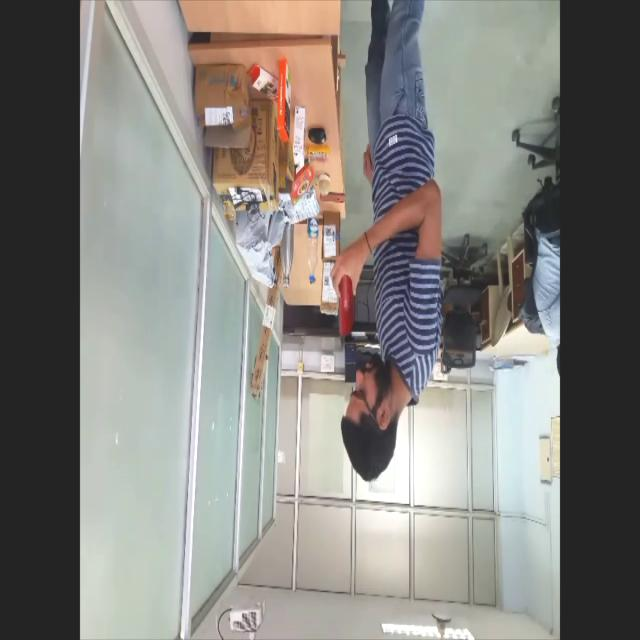normal: (330, 0, 449, 495)
